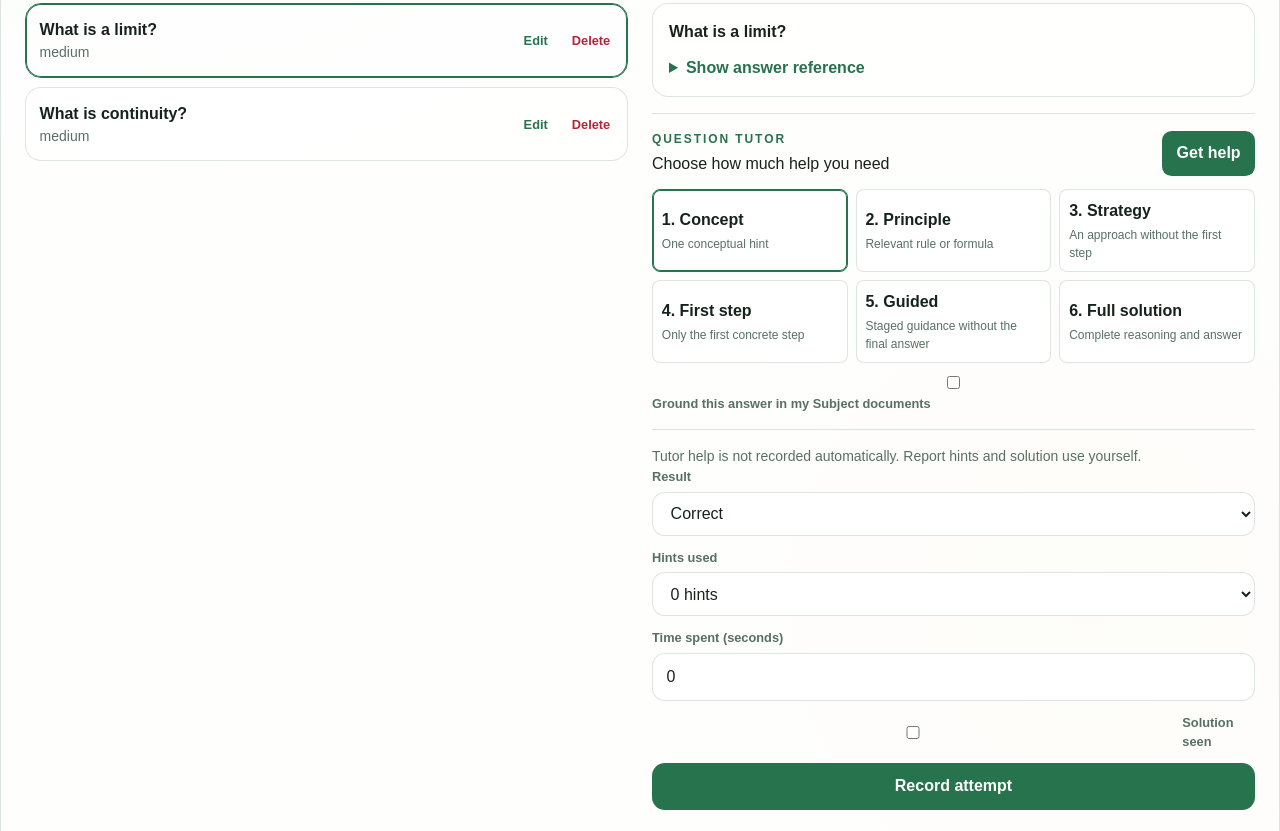
Test case: PracticeManager › publishes same-Topic Attempt evidence without contaminating the newly selected Question
(page scrolled)
Expected: the heading "Show answer reference" is shown, [686, 60, 865, 76]
Click the button "Record attempt".
click(954, 786)  # box [652, 763, 1255, 810]
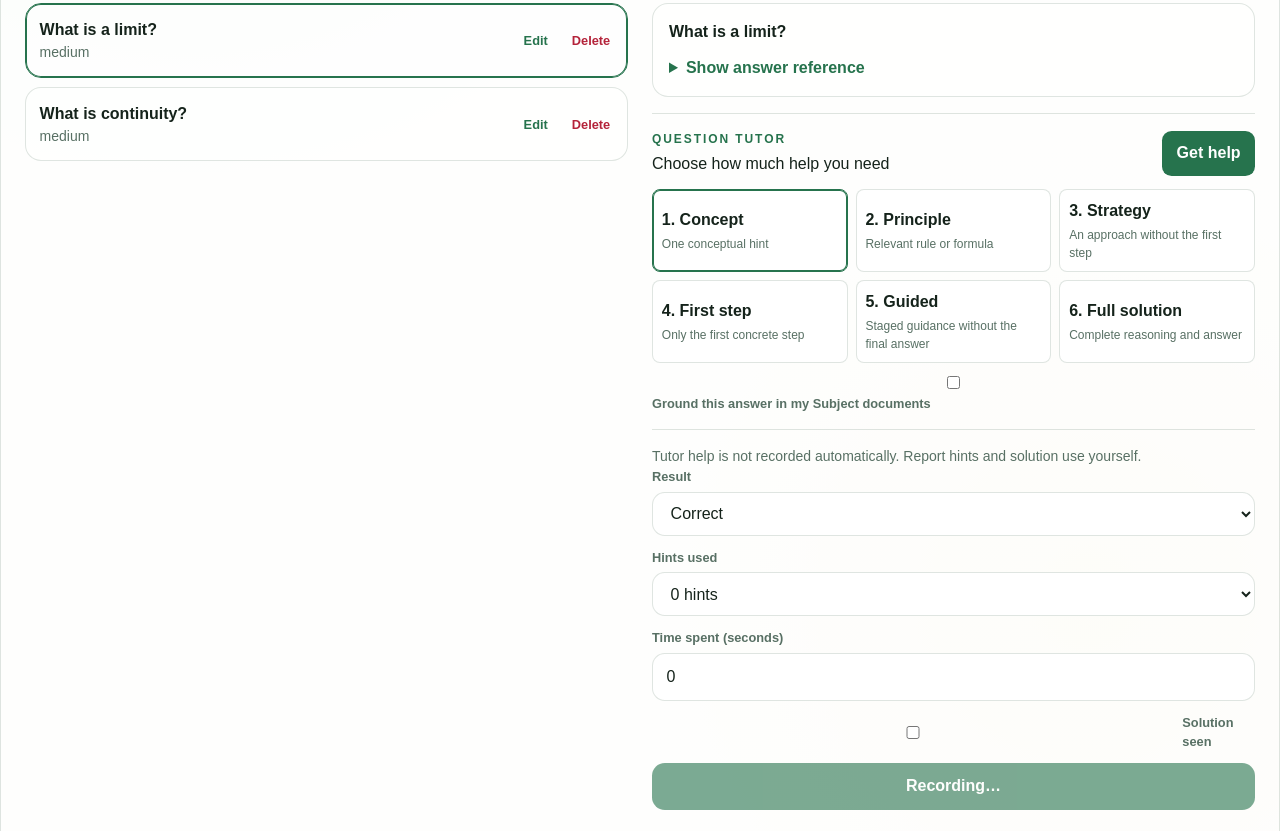
Click the button "What is continuity? medium".
click(113, 113)  # box [35, 97, 508, 152]
(page scrolled)
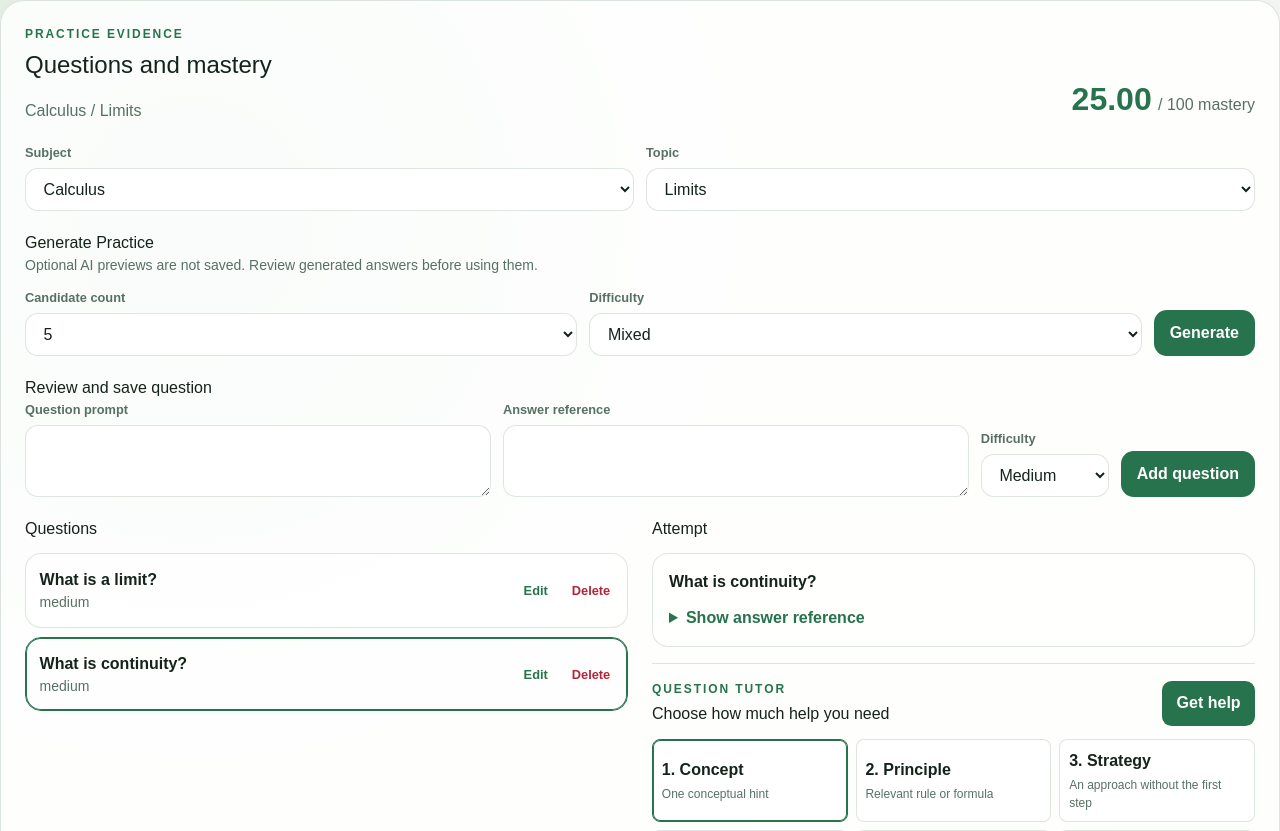
Result: the element named "Current mastery" shows "25.00" at [1072, 81, 1152, 117]
